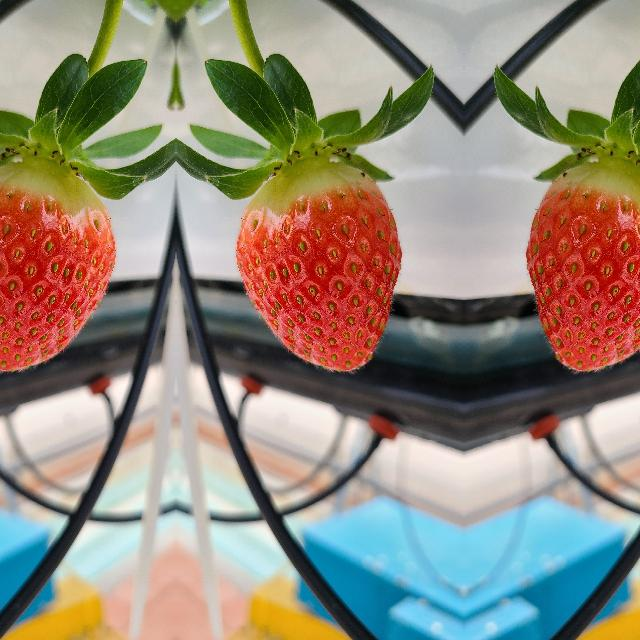Health_100: (232, 160, 406, 374), (520, 159, 640, 374), (0, 159, 117, 374)
